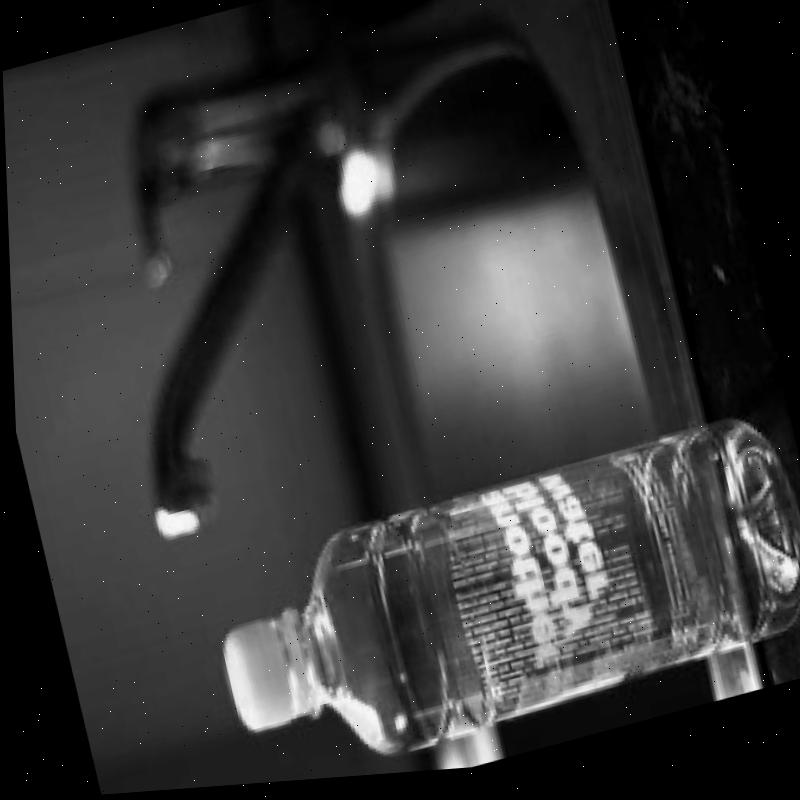botella: (193, 423, 800, 790)
